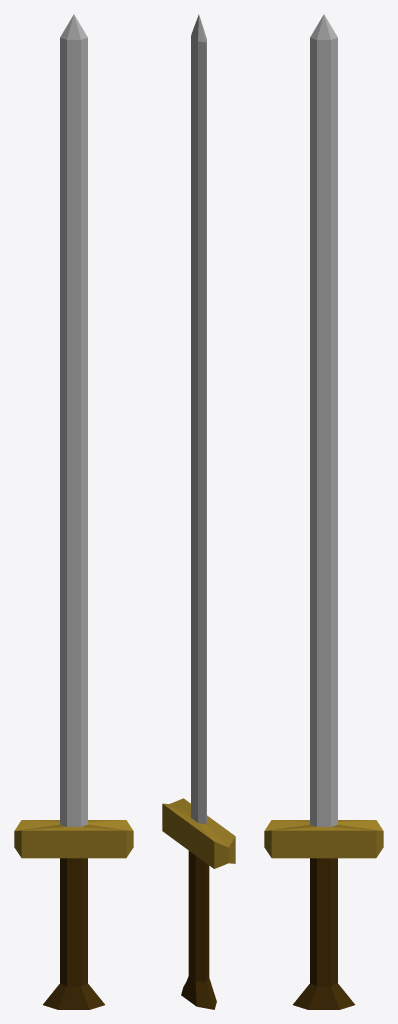
File: short_sword.glb
3 renders of one model, left to right at view 1: azimuth 90°, elevation 25°; view 2: azimuth 210°, elevation 25°; view 3: azimuth 270°, elevation 25°, orthographic.
Parts seen in each view (by area): view 1: Cylinder; view 2: Cylinder; view 3: Cylinder.
Boxes of the visible parts, x1=… form: Cylinder: x1=14, y1=14, x2=133, y2=1009; Cylinder: x1=162, y1=14, x2=235, y2=1009; Cylinder: x1=264, y1=14, x2=383, y2=1009.
Size of the model in its own units: 0.0187 by 0.8194 by 0.0896.
